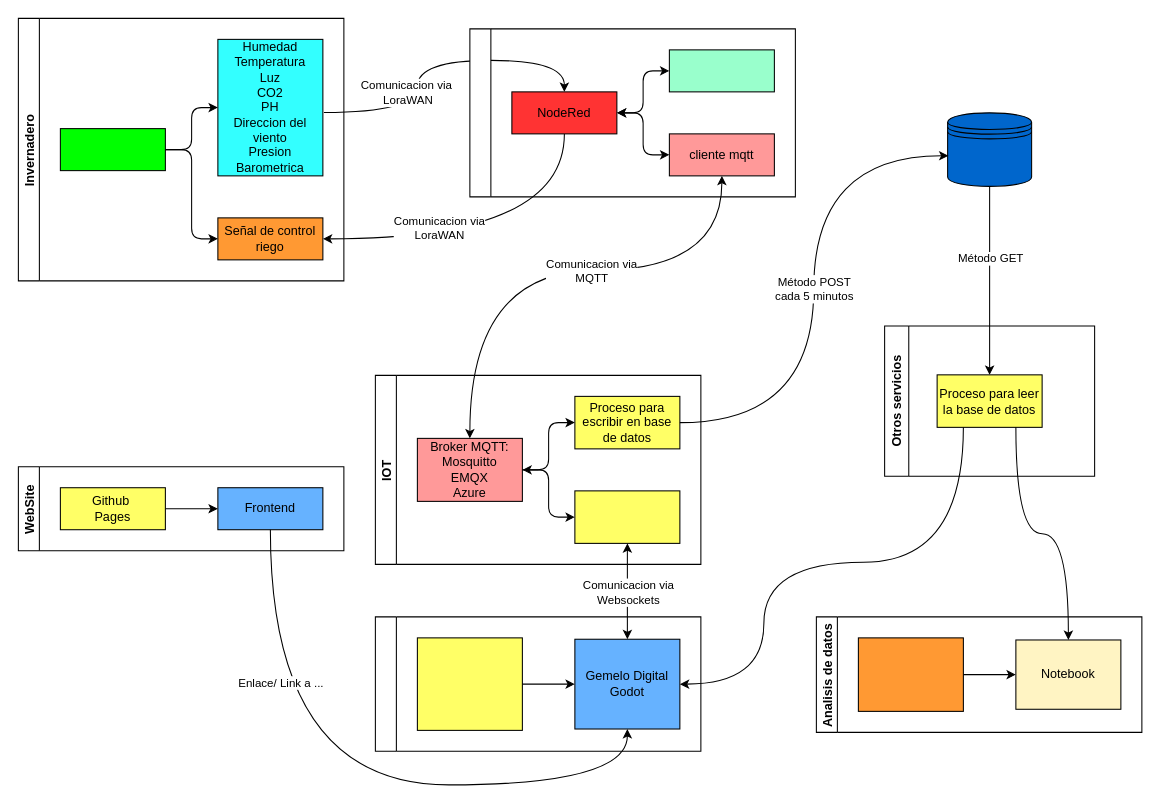
Image size: 1160x803. Some labels were removed from this diagram. The box of each missing label's shape, as (x1, y1, x2, y2) in pixels:
dashboard: (668, 49, 774, 92)
Gateway: (469, 28, 795, 197)
JupyterLab: (857, 637, 963, 711)
Planta (Invernadero): (59, 128, 165, 171)
Postgres: (947, 112, 1032, 186)
Servicio para servir contenido estatico: (416, 637, 522, 730)
Servidor Websockets: (574, 490, 680, 543)
UI Gemelo Digital: (374, 616, 701, 751)
